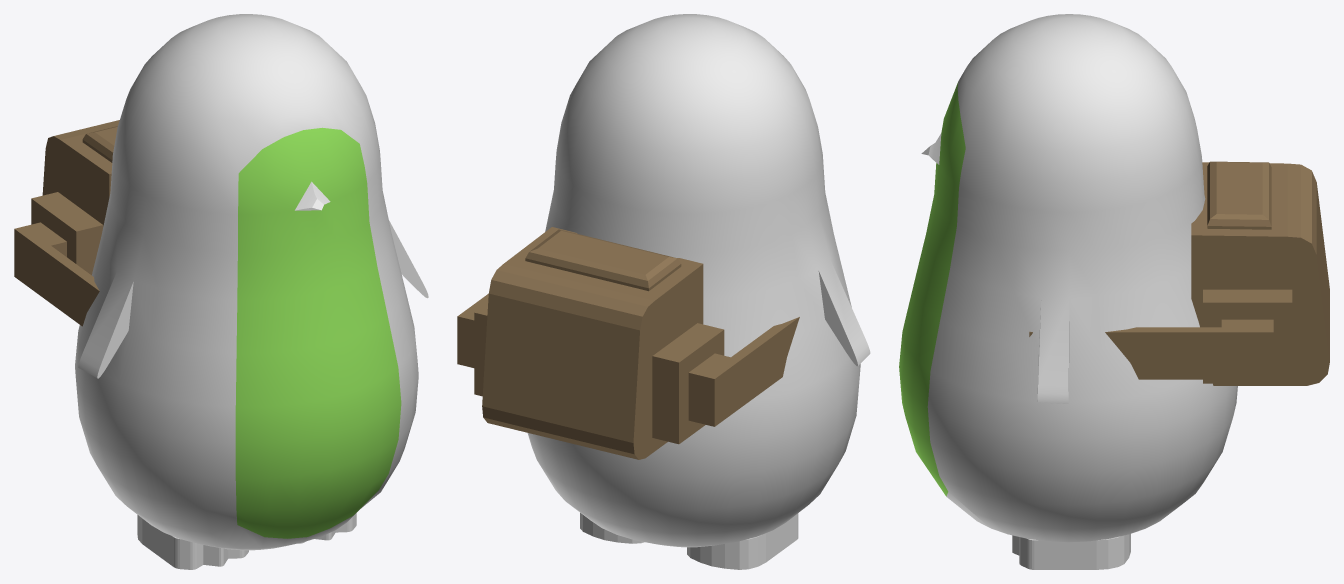
File: Penguin2.fbx
3 renders of one model, left to right at view 1: azimuth 30°, elevation 25°; view 2: azimuth 150°, elevation 25°; view 3: azimuth 270°, elevation 25°, orthographic.
Visible parts, largest first — view 1: Sphere, Cube.001, Cube; view 2: Sphere, Cube.001, Cube; view 3: Sphere, Cube.001, Cube.
Boxes of the visible parts, x1,y1,x2,y2 form: Sphere: [75, 14, 428, 550]; Cube.001: [14, 120, 119, 326]; Cube: [137, 513, 356, 569]; Sphere: [527, 14, 870, 547]; Cube.001: [457, 227, 799, 459]; Cube: [580, 513, 798, 569]; Sphere: [899, 14, 1237, 542]; Cube.001: [1029, 161, 1329, 385]; Cube: [1012, 534, 1130, 569].
Size of the model in its own units: 192 by 274 by 215.
